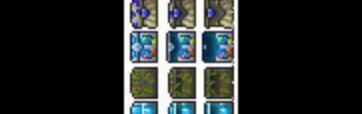chest: (201, 28, 234, 63), (164, 29, 196, 62), (128, 29, 158, 64), (202, 66, 234, 98), (129, 65, 158, 99), (166, 66, 196, 98), (201, 0, 234, 28), (129, 0, 159, 29), (166, 0, 197, 28), (125, 98, 158, 114), (165, 99, 196, 114), (202, 100, 234, 114)
